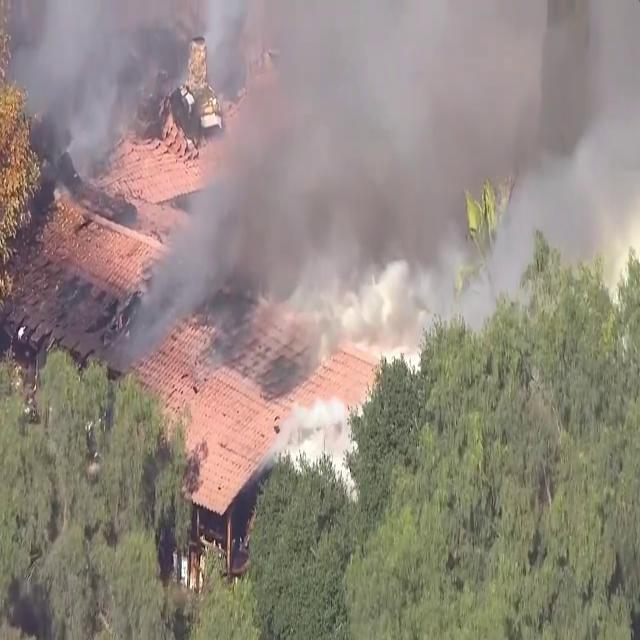Smoke: (122, 1, 596, 377), (0, 0, 180, 172)
